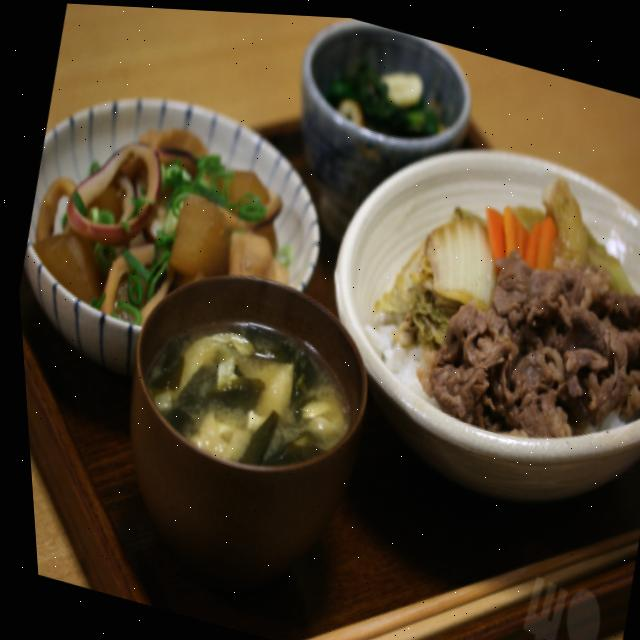汤锅炖物: (98, 246, 393, 507)
